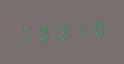one: (69, 19, 85, 41)
seven: (18, 23, 34, 46)
zero: (52, 20, 68, 43), (86, 17, 102, 40), (35, 22, 51, 44)
